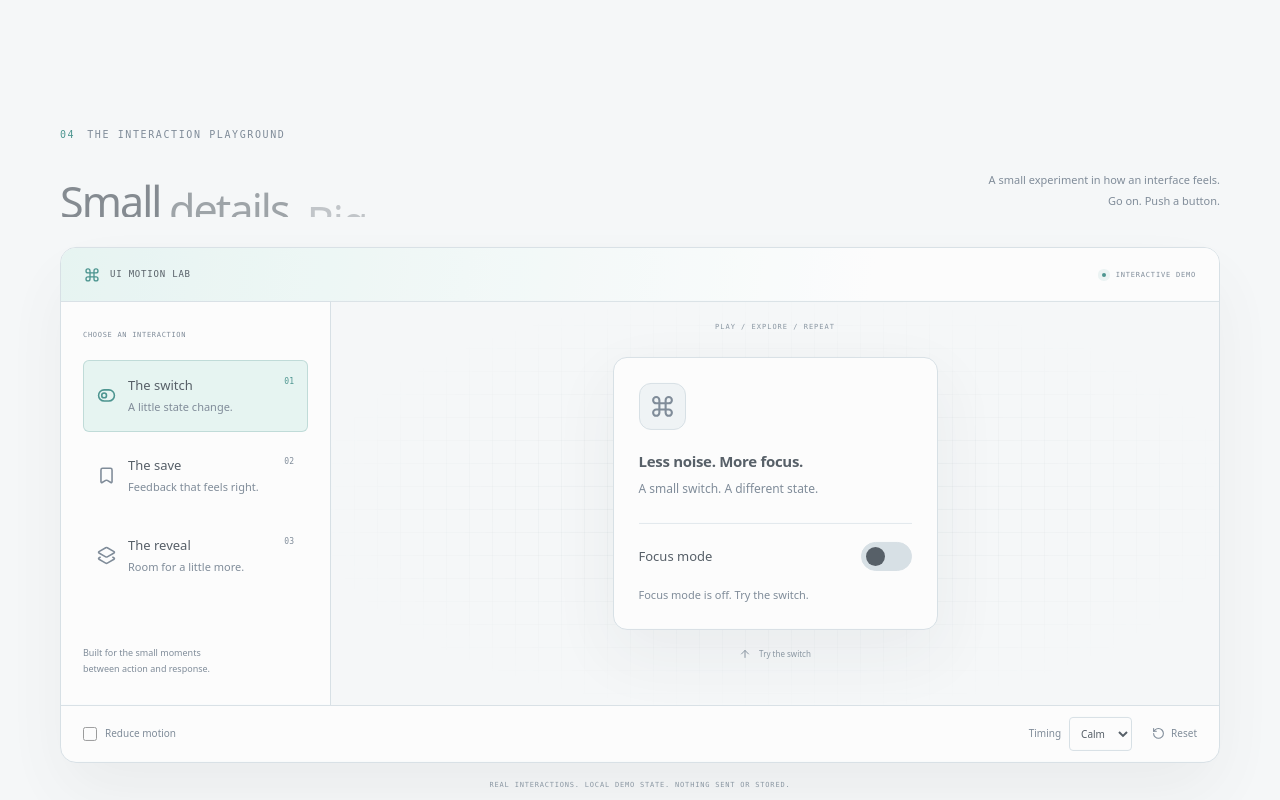
it: save/undo and reveal are real reversible interactions
Click the button "The save Feedback that feels right. 02".
click(196, 476)  # box [83, 440, 308, 512]
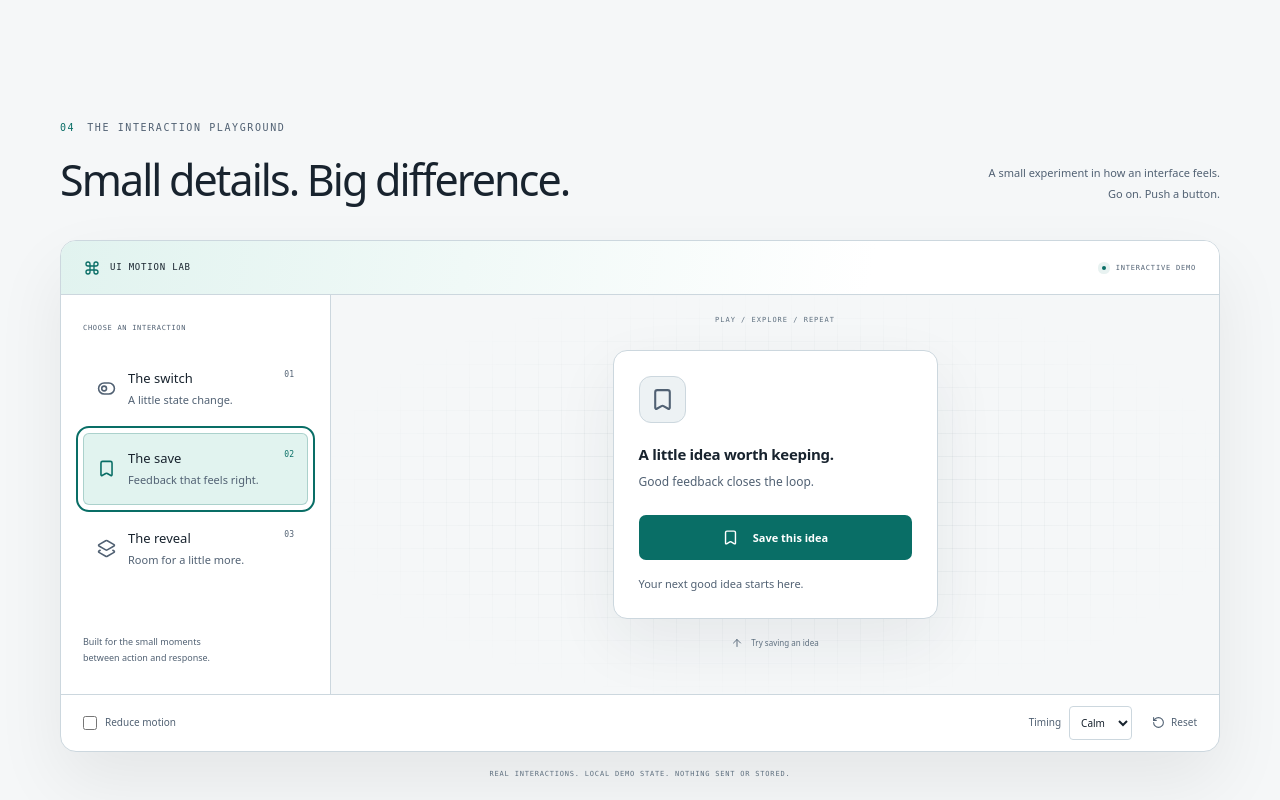
Click the button "Save this idea".
click(775, 537)  # box [638, 515, 912, 560]
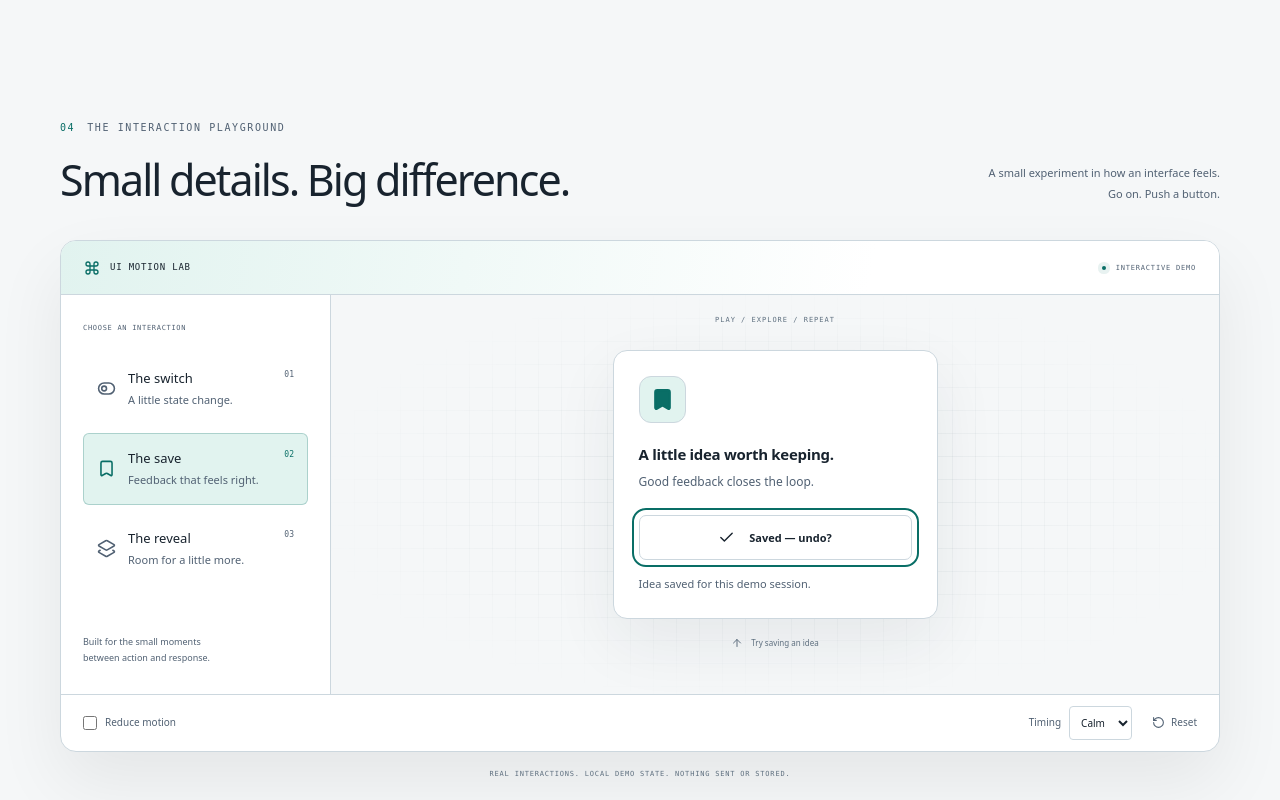
Result: the message shows "Idea saved" at [638, 576, 811, 591]
Click the button named "Save this idea".
click(775, 537)  # box [638, 515, 912, 560]
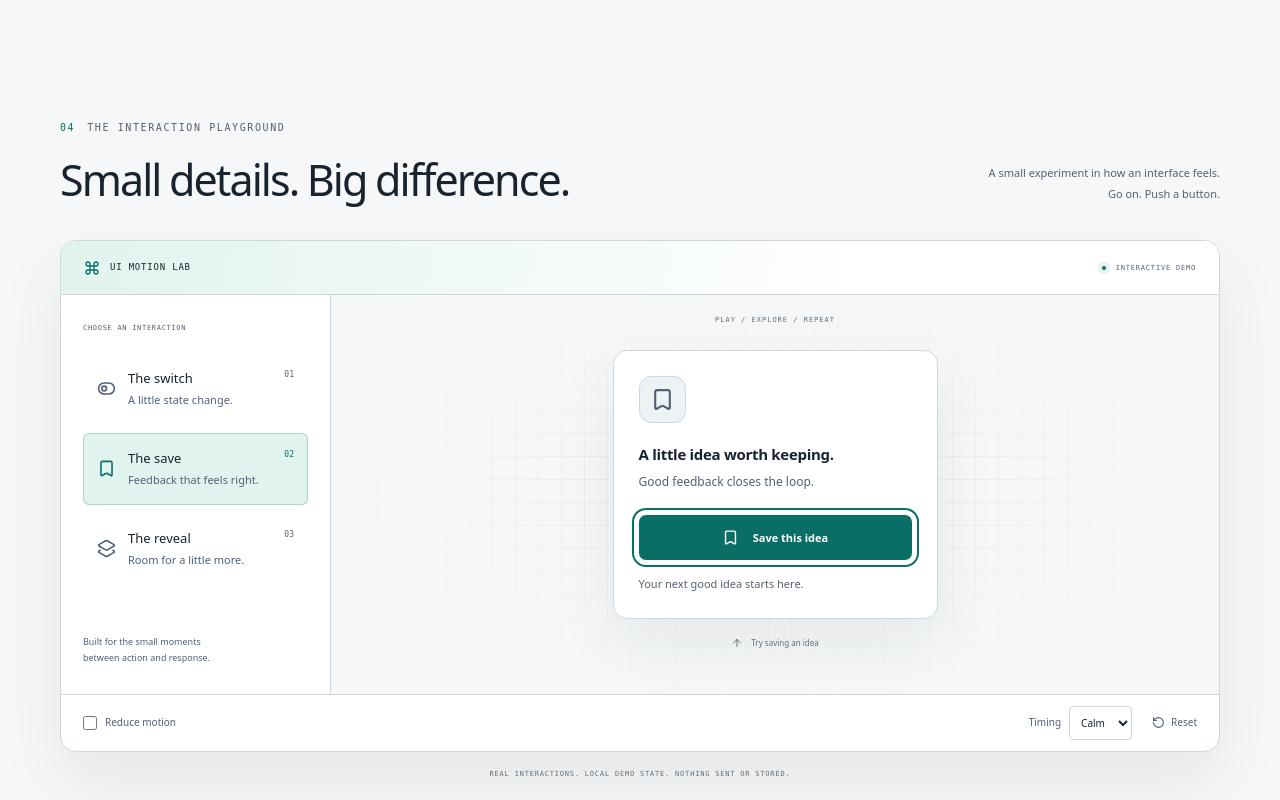
Result: the button "Save this idea" is not pressed at [638, 515, 912, 560]
Click the button "The reveal Room for a little more. 03".
click(196, 549)  # box [83, 513, 308, 585]
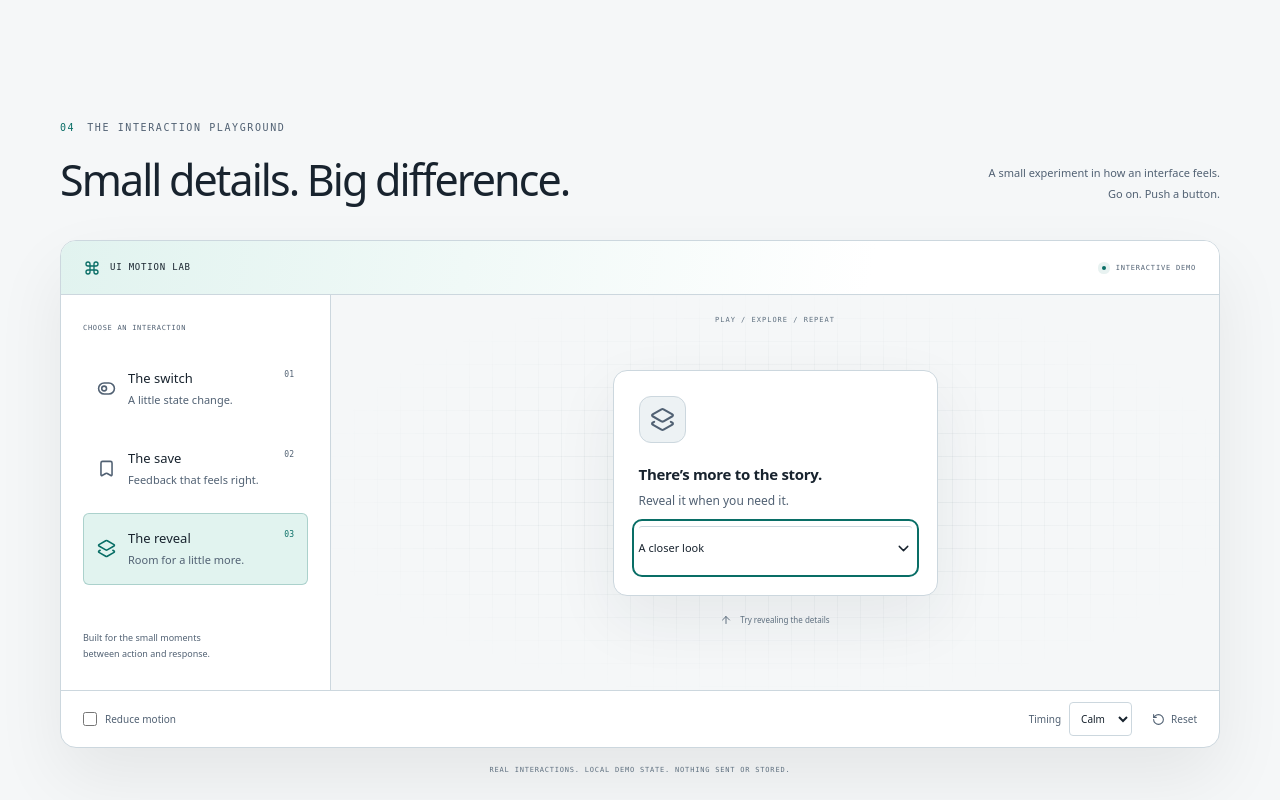
Expected: the text "A clear action" is not shown
Press Enter
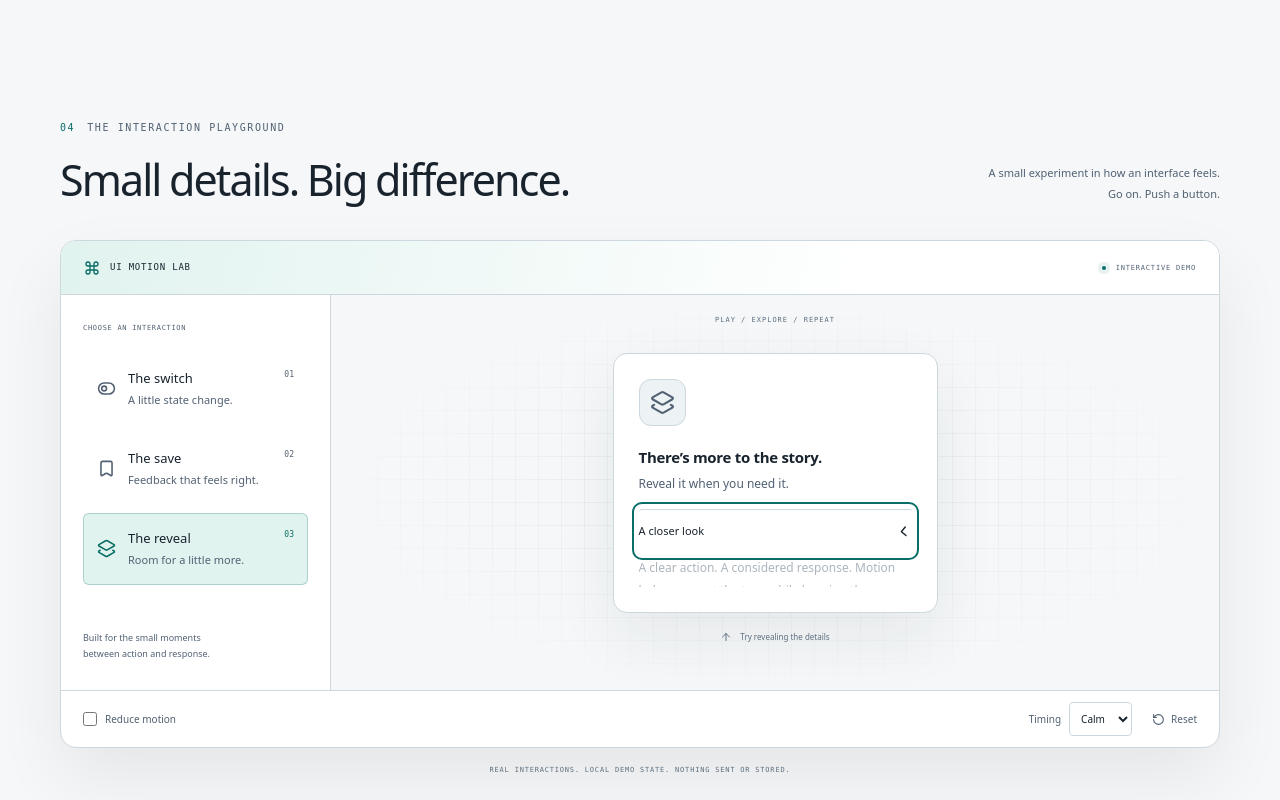
Result: the button "A closer look" is expanded at [638, 509, 912, 553]
Click the button "Reset".
click(1175, 719)  # box [1152, 700, 1197, 738]
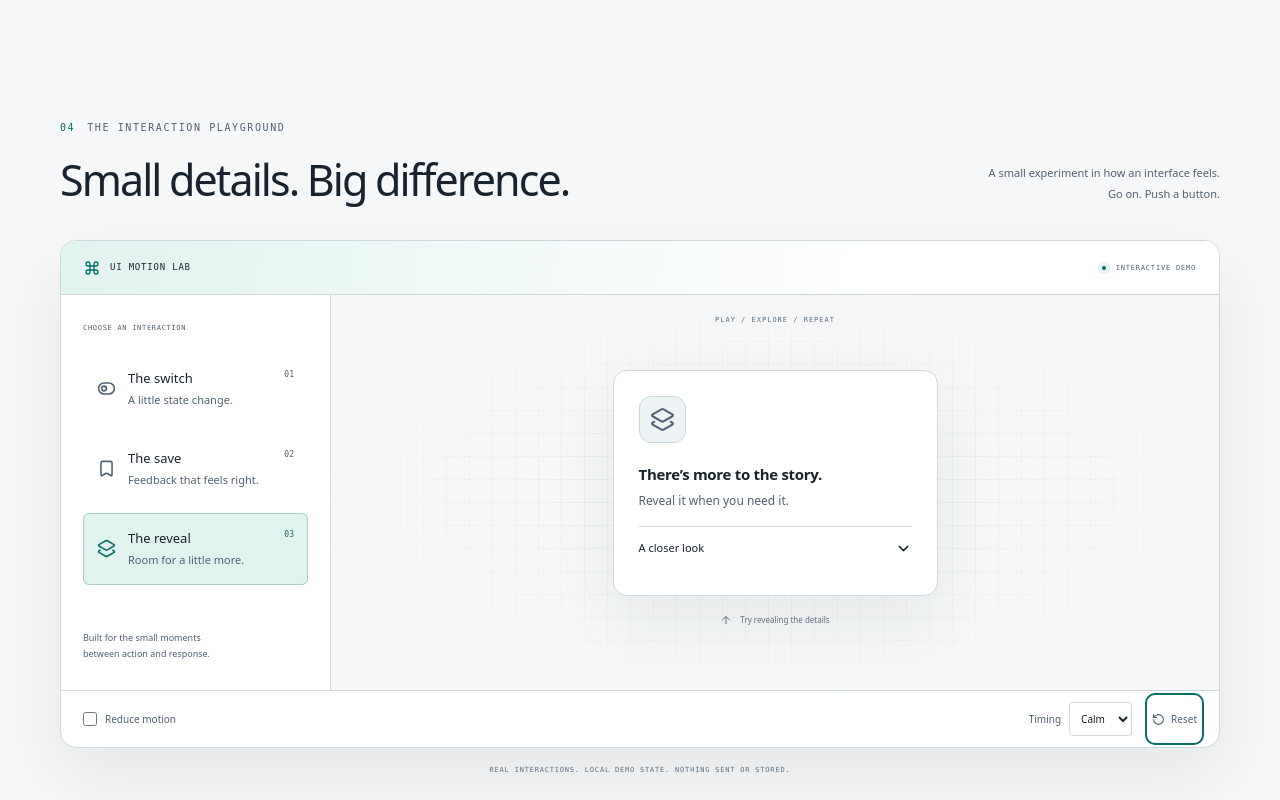
Result: the button "A closer look" is collapsed at [638, 526, 912, 570]
